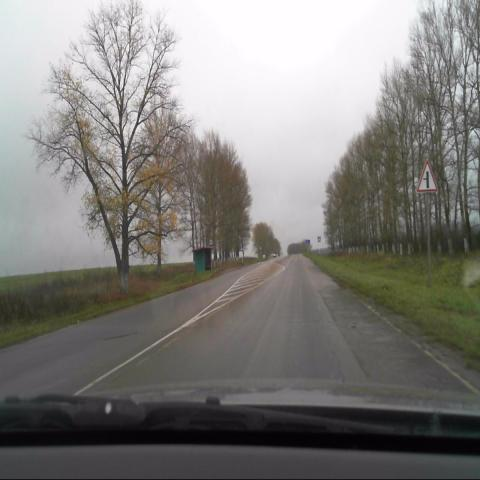2_3_3: (416, 157, 438, 192)
